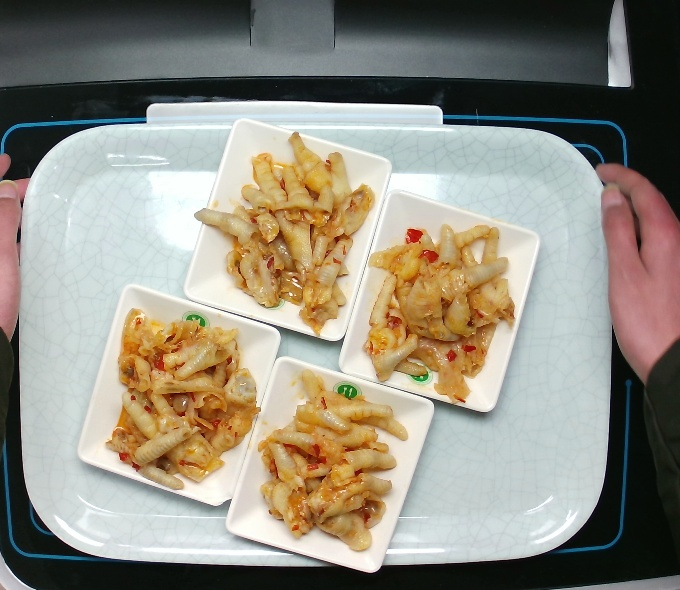wcq-LuJiZhua: (190, 117, 377, 339), (95, 296, 269, 501), (351, 210, 524, 408), (249, 360, 415, 556)
